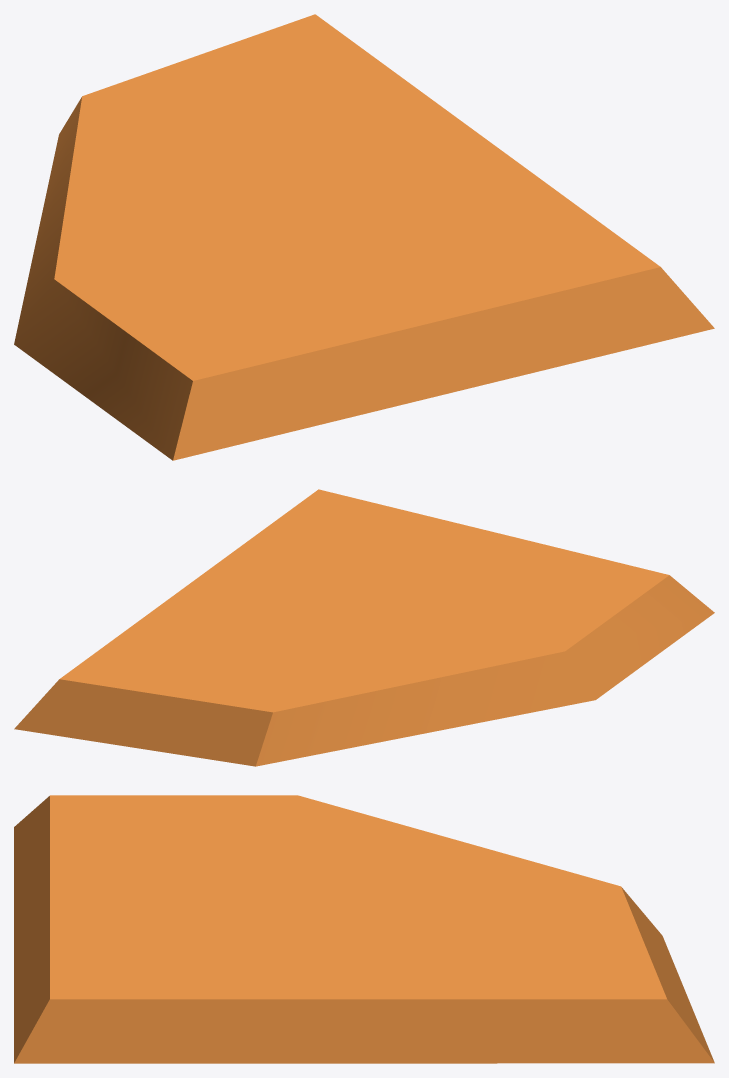
The model's file is stone_07.FBX.
3 renders of one model, top to bottom at view 1: azimuth 30°, elevation 25°; view 2: azimuth 150°, elevation 25°; view 3: azimuth 270°, elevation 25°, orthographic. The views are drawn at different scales.
Parts seen in each view (by area): view 1: stone_07; view 2: stone_07; view 3: stone_07.
Part boxes in pixels (x1,y1,x2,y2): stone_07: [14, 14, 714, 460]; stone_07: [14, 489, 714, 766]; stone_07: [14, 795, 714, 1063].
Bounding box in the file's own units: 0.5976 × 0.0582 × 0.7488.
1 material, 1 textured.
